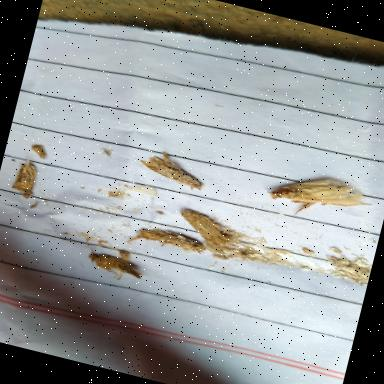pbw: (262, 164, 375, 232), (174, 207, 259, 254), (78, 239, 147, 285), (125, 222, 207, 260), (136, 150, 208, 192), (10, 154, 38, 193)
